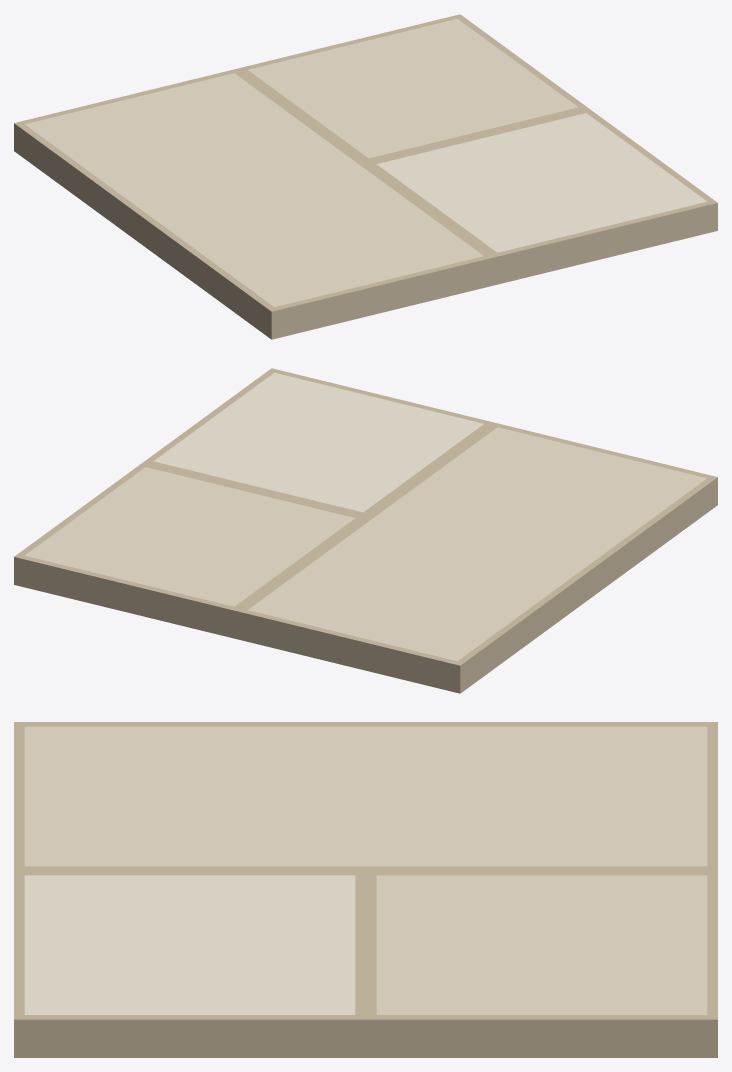
The model's file is paving_tile_b.glb.
3 views of the same model, one above another, from view 1: azimuth 30°, elevation 25°; view 2: azimuth 150°, elevation 25°; view 3: azimuth 270°, elevation 25° (orthographic). The views are drawn at different scales.
Parts seen in each view (by area): view 1: paving_tile_b; view 2: paving_tile_b; view 3: paving_tile_b.
Part boxes in pixels (<box>): paving_tile_b: <box>14,14,717,339</box>; paving_tile_b: <box>14,368,717,693</box>; paving_tile_b: <box>14,722,717,1057</box>.
Size of the model in its own units: 1 by 0.06 by 1.
